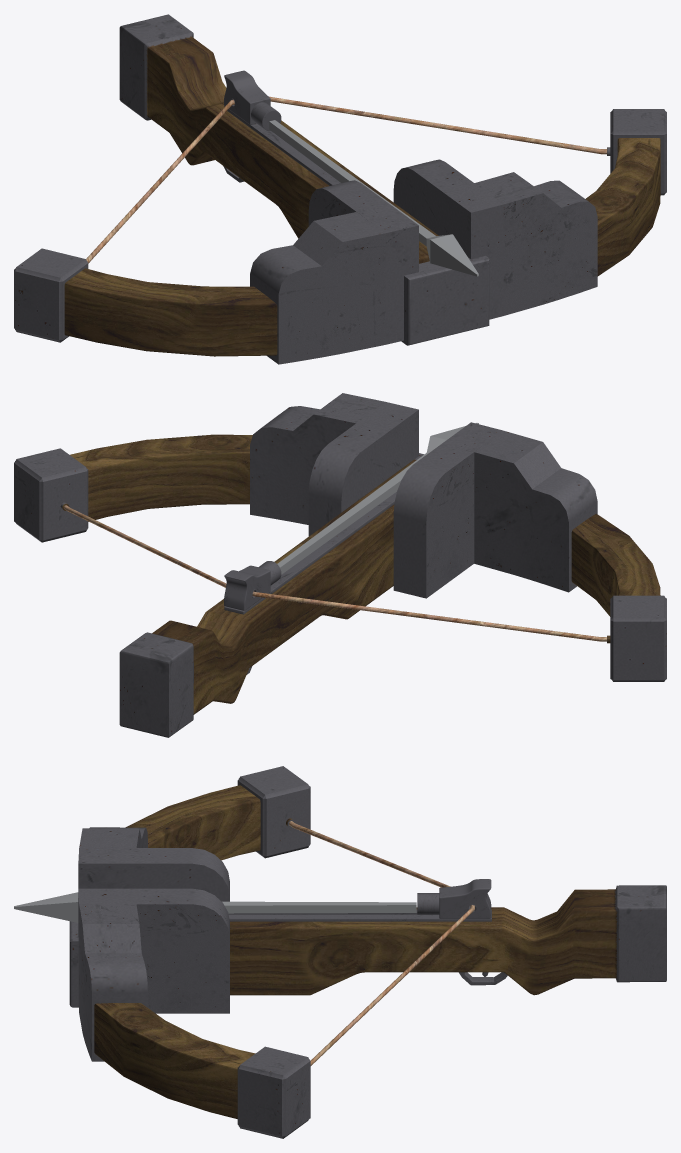
File: XBOW.fbx
The picture shows the model from 3 angles, top to bottom: view 1: azimuth 30°, elevation 25°; view 2: azimuth 150°, elevation 25°; view 3: azimuth 270°, elevation 25°; orthographic projection. The views are drawn at different scales.
Visible parts, largest first — view 1: xBOW, rope, Arrow, Launcher; view 2: xBOW, rope, Arrow, Launcher; view 3: xBOW, Arrow, Launcher, rope.
Boxes of the visible parts, left/top/right/bottom form: xBOW: left=14, top=14, right=666, bottom=364; rope: left=86, top=96, right=606, bottom=263; Arrow: left=269, top=120, right=478, bottom=276; Launcher: left=224, top=70, right=281, bottom=130; xBOW: left=14, top=393, right=666, bottom=737; rope: left=64, top=505, right=606, bottom=641; Arrow: left=277, top=423, right=478, bottom=574; Launcher: left=224, top=561, right=281, bottom=610; xBOW: left=69, top=766, right=666, bottom=1138; Arrow: left=14, top=892, right=416, bottom=922; Launcher: left=417, top=879, right=491, bottom=918; rope: left=289, top=821, right=474, bottom=1065.
Size of the model in its own units: 9.77 by 1.64 by 8.66.
